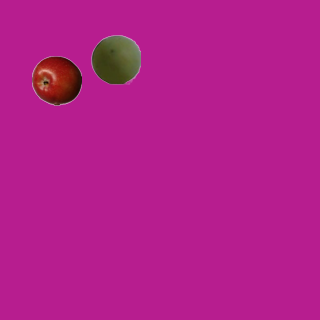Apple Braeburn: (31, 55, 81, 105)
Grape White 4: (90, 34, 140, 84)
